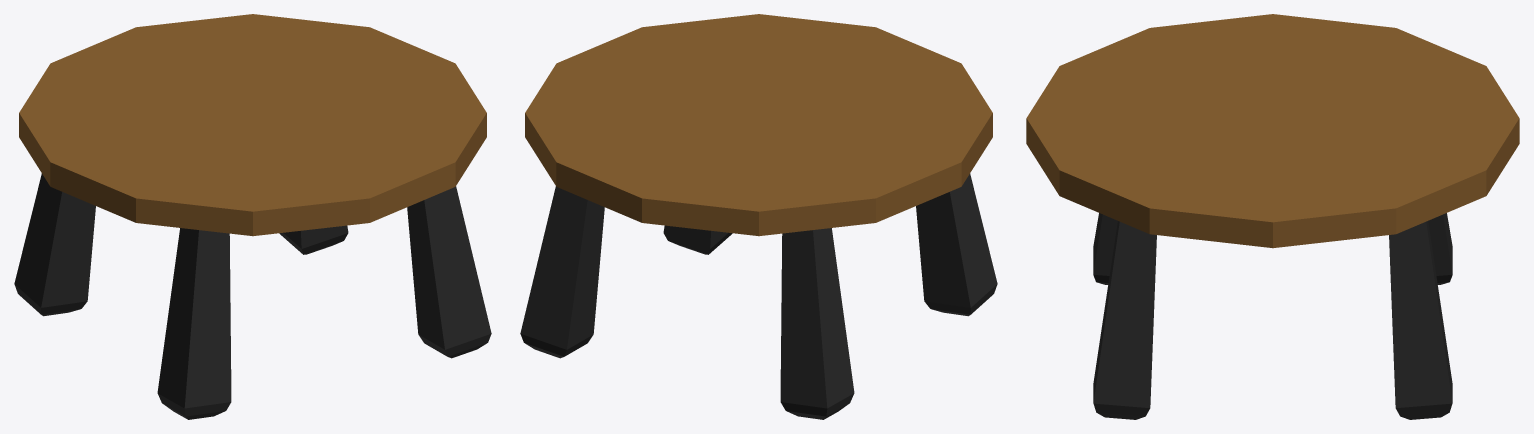
Rendered from Table_6.fbx.
The picture shows the model from 3 angles, left to right: view 1: azimuth 30°, elevation 25°; view 2: azimuth 150°, elevation 25°; view 3: azimuth 270°, elevation 25°; orthographic projection. The views are drawn at different scales.
Parts seen in each view (by area): view 1: Table_6; view 2: Table_6; view 3: Table_6.
Boxes of the visible parts, left/top/right/bottom form: Table_6: left=14, top=14, right=491, bottom=419; Table_6: left=520, top=14, right=997, bottom=419; Table_6: left=1026, top=14, right=1519, bottom=419.
Size of the model in its own units: 0.4403 by 0.2274 by 0.4403.
